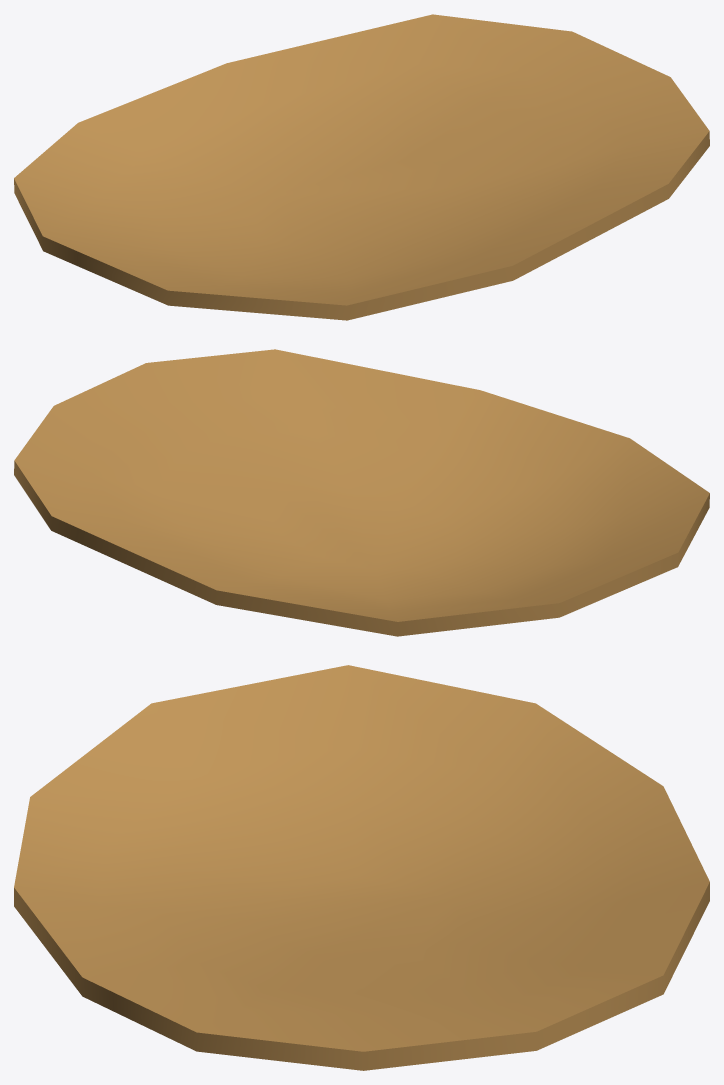
File: Chip_01.fbx
3 views of the same model, one above another, from view 1: azimuth 30°, elevation 25°; view 2: azimuth 150°, elevation 25°; view 3: azimuth 270°, elevation 25° (orthographic). The views are drawn at different scales.
Parts seen in each view (by area): view 1: Chip_01; view 2: Chip_01; view 3: Chip_01.
Part boxes in pixels (x1,y1,x2,y2): Chip_01: (14, 14, 709, 320); Chip_01: (14, 349, 709, 636); Chip_01: (14, 665, 709, 1070).
Bounding box in the file's own units: 0.0866 × 0.0102 × 0.0658.
